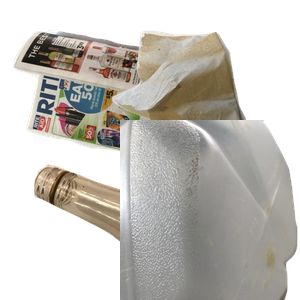glass: (31, 120, 271, 300)
paper: (11, 27, 213, 185)
plastic: (120, 120, 300, 300)
trash: (109, 28, 300, 208)
